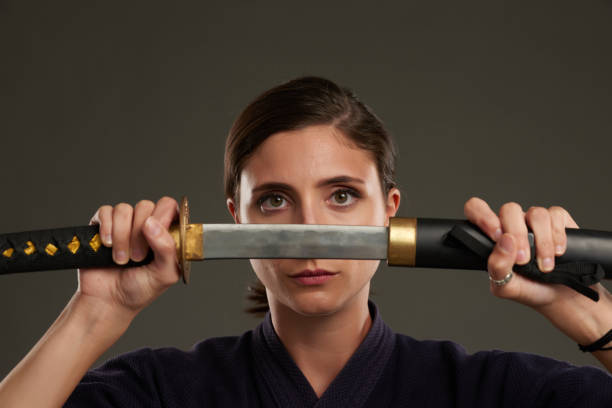knife: (0, 196, 389, 284)
